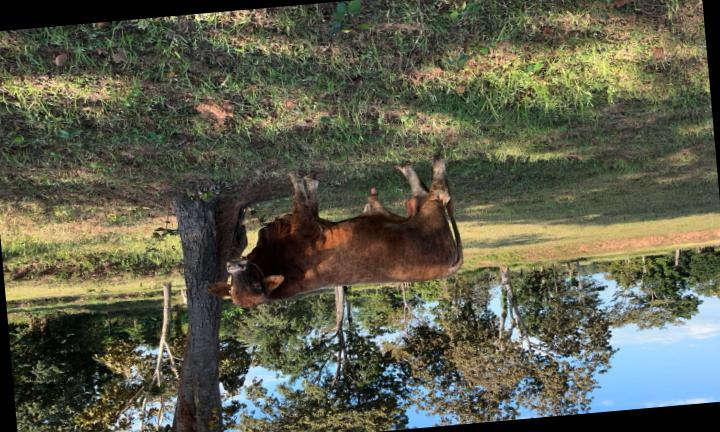Charolais: (205, 155, 463, 307)
